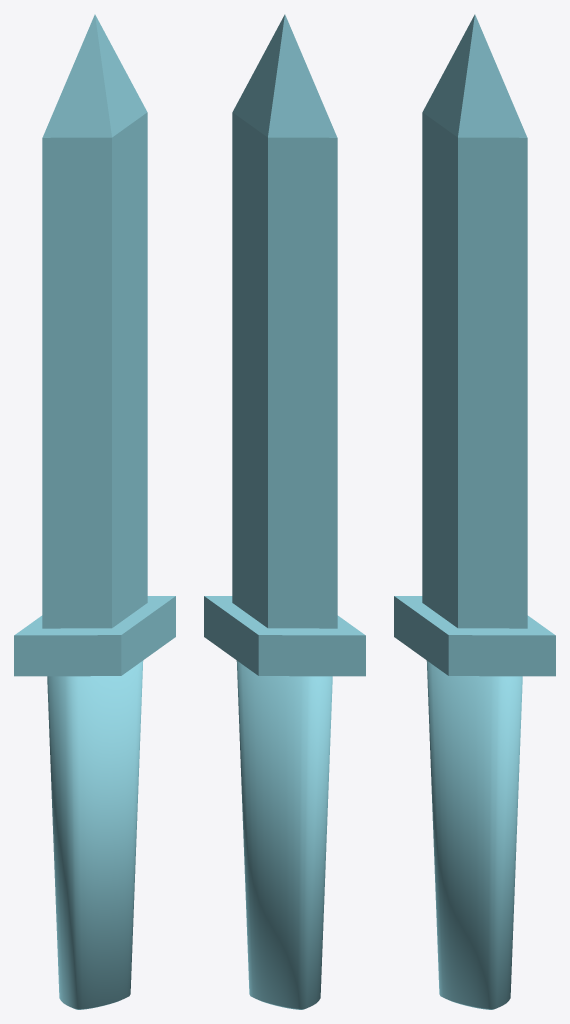
Rendered from ShortSword.fbx.
3 views of the same model, side by side, from view 1: azimuth 30°, elevation 25°; view 2: azimuth 150°, elevation 25°; view 3: azimuth 330°, elevation 25° (orthographic).
Parts seen in each view (by area): view 1: 立方体, 円柱; view 2: 立方体, 円柱; view 3: 立方体, 円柱.
Part boxes in pixels (x1,y1,x2,y2): 立方体: (14,14,175,676); 円柱: (47,660,143,1009); 立方体: (204,14,365,676); 円柱: (236,660,332,1009); 立方体: (394,14,555,676); 円柱: (426,660,522,1009).
Bounding box in the file's own units: 283 × 1655 × 160.
